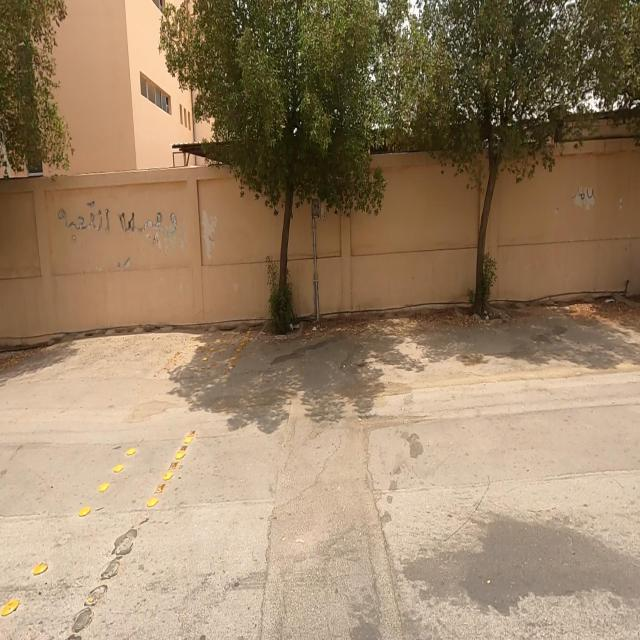Graffiti: (59, 199, 180, 243), (572, 188, 597, 203)
